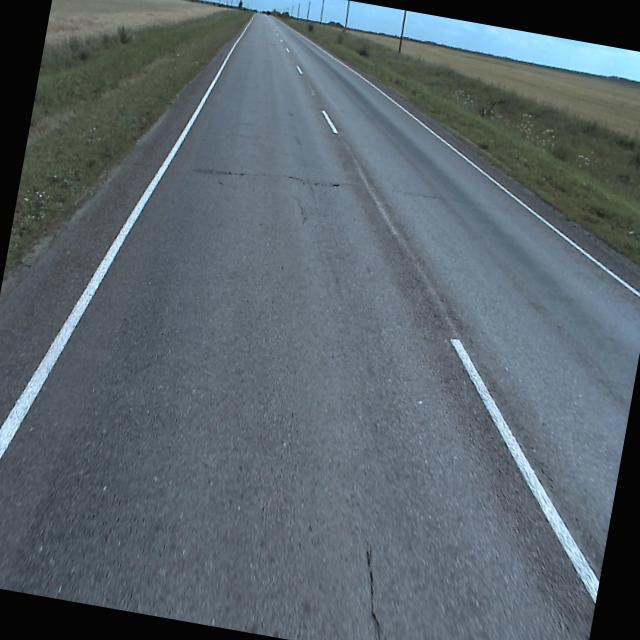road: (0, 12, 640, 640)
